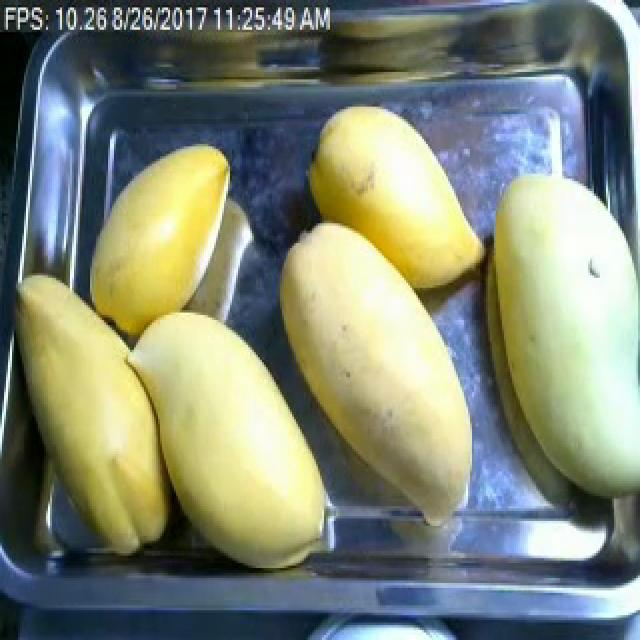fruit: (258, 206, 484, 543), (126, 295, 338, 576), (6, 260, 190, 570), (294, 94, 498, 310), (78, 136, 252, 345)
